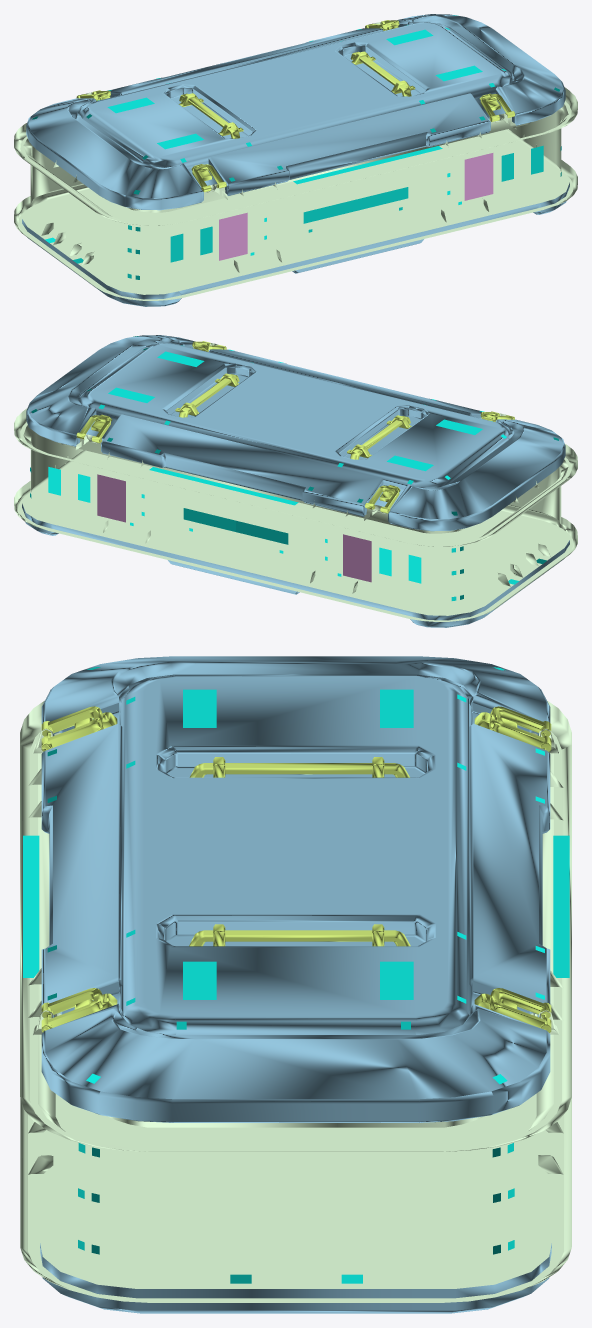
Rendered from crate_metal_1_0250x0125x0625_a.glb.
The picture shows the model from 3 angles, top to bottom: view 1: azimuth 30°, elevation 25°; view 2: azimuth 150°, elevation 25°; view 3: azimuth 270°, elevation 25°; orthographic projection. The views are drawn at different scales.
Bounding box in the file's own units: 2.5 × 0.6364 × 1.26.
